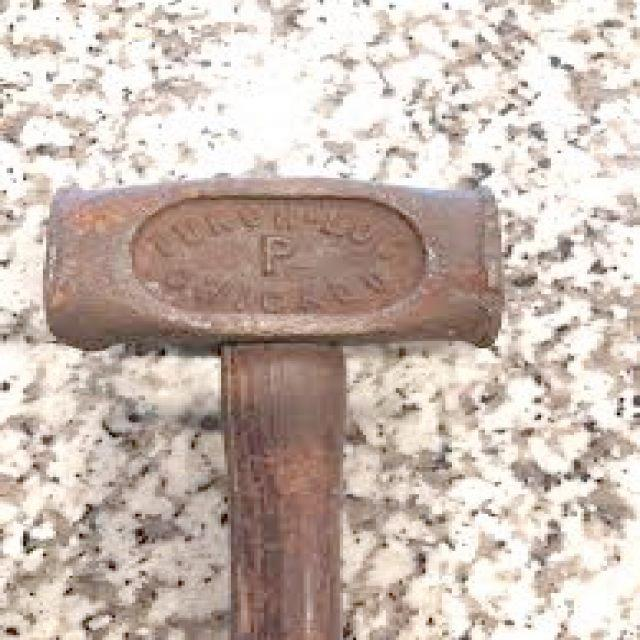hammer: (33, 180, 518, 640)
